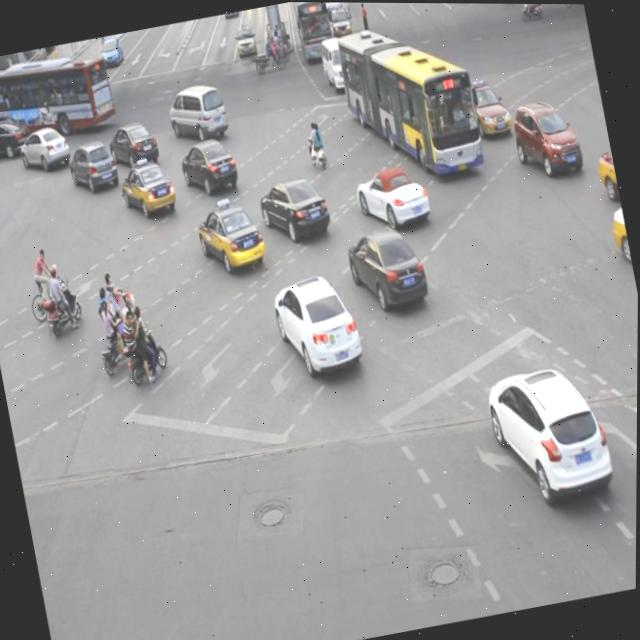car: (483, 356, 617, 507), (269, 269, 365, 379), (344, 221, 430, 313), (509, 92, 583, 180), (193, 195, 268, 276), (256, 170, 335, 246), (353, 163, 432, 234), (177, 134, 241, 198), (117, 156, 179, 220), (66, 137, 122, 196), (463, 76, 512, 140), (106, 118, 160, 171), (16, 122, 72, 173), (592, 142, 621, 204), (607, 201, 633, 269)
truck: (165, 79, 230, 144)
van: (334, 15, 485, 189), (0, 49, 117, 145)
